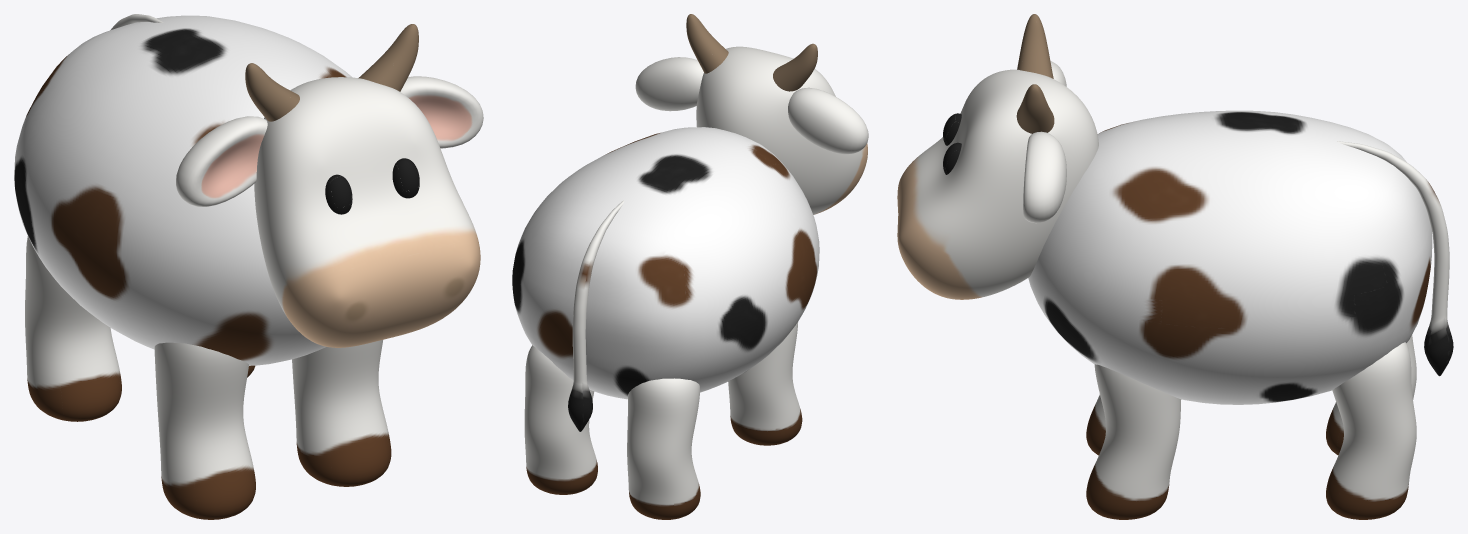
The model's file is VacaLolaFinal.glb.
3 views of the same model, side by side, from view 1: azimuth 30°, elevation 25°; view 2: azimuth 150°, elevation 25°; view 3: azimuth 270°, elevation 25° (orthographic). The views are drawn at different scales.
Parts seen in each view (by area): view 1: Roundcube.002, Roundcube.001, Cube.001, Cube.002, Cube, Cube.004, Cube.003; view 2: Roundcube.002, Cube.002, Roundcube.001, Cube, Cube.001, Vert.001, Cube.004; view 3: Roundcube.002, Roundcube.001, Cube.002, Cube.001, Vert.001, Cube, Cube.004, Cube.003.
Boxes of the visible parts, x1,y1,x2,y2 form: Roundcube.002: [14, 15, 352, 365]; Roundcube.001: [254, 77, 480, 347]; Cube.001: [154, 340, 391, 519]; Cube.002: [25, 236, 255, 421]; Cube: [176, 76, 483, 206]; Cube.004: [245, 24, 418, 121]; Cube.003: [325, 158, 419, 214]; Roundcube.002: [512, 127, 819, 399]; Cube.002: [524, 345, 700, 519]; Roundcube.001: [696, 46, 867, 214]; Cube: [635, 57, 868, 154]; Cube.001: [728, 321, 802, 445]; Vert.001: [568, 200, 624, 431]; Cube.004: [686, 14, 817, 91]; Roundcube.002: [1028, 110, 1432, 404]; Roundcube.001: [897, 69, 1098, 299]; Cube.002: [1326, 334, 1416, 519]; Cube.001: [1086, 364, 1181, 519]; Vert.001: [1337, 141, 1453, 376]; Cube: [1023, 61, 1066, 223]; Cube.004: [1016, 14, 1054, 133]; Cube.003: [943, 113, 961, 174].
Bounding box in the file's own units: 0.6478 × 0.9196 × 1.07.
Materials: 1 (1 with a texture image).
